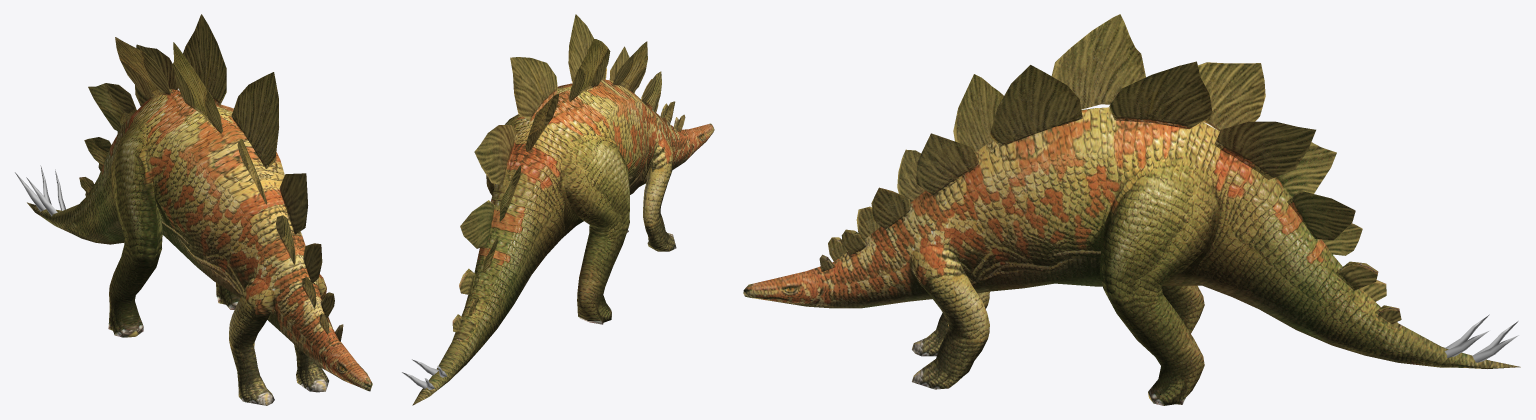
File: stegosaurus.obj
3 views of the same model, side by side, from view 1: azimuth 30°, elevation 25°; view 2: azimuth 150°, elevation 25°; view 3: azimuth 270°, elevation 25° (orthographic). The views are drawn at different scales.
Parts seen in each view (by area): view 1: Stag BodL1, Duplicate01, Stag BodL2, Stag Spike, Stag Fin R, Stag Fin L; view 2: Stag BodL1, Duplicate01, Stag BodL2, Stag Fin L, Stag Fin R, Stag Spike; view 3: Stag BodL1, Stag BodL2, Stag Fin L, Stag Fin R, Stag Spike, Duplicate01.
Boxes of the visible parts, box(x1,y1,x2,y2) form: Stag BodL1: box(27, 89, 372, 391); Duplicate01: box(79, 14, 342, 341); Stag BodL2: box(108, 119, 329, 405); Stag Spike: box(15, 165, 65, 216); Stag Fin R: box(82, 37, 329, 334); Stag Fin L: box(137, 14, 343, 341); Stag BodL1: box(412, 79, 714, 405); Duplicate01: box(453, 14, 685, 332); Stag BodL2: box(486, 114, 676, 324); Stag Fin L: box(452, 14, 676, 331); Stag Fin R: box(468, 39, 683, 315); Stag Spike: box(402, 359, 447, 389); Stag BodL1: box(743, 107, 1520, 368); Stag BodL2: box(911, 159, 1215, 405); Stag Fin L: box(819, 62, 1401, 323); Stag Fin R: box(828, 14, 1386, 301); Stag Spike: box(1444, 314, 1518, 362); Duplicate01: box(820, 14, 1398, 311).
Size of the model in its own units: 6.42 by 12.78 by 26.73.
Materials: 4 (3 with a texture image).
